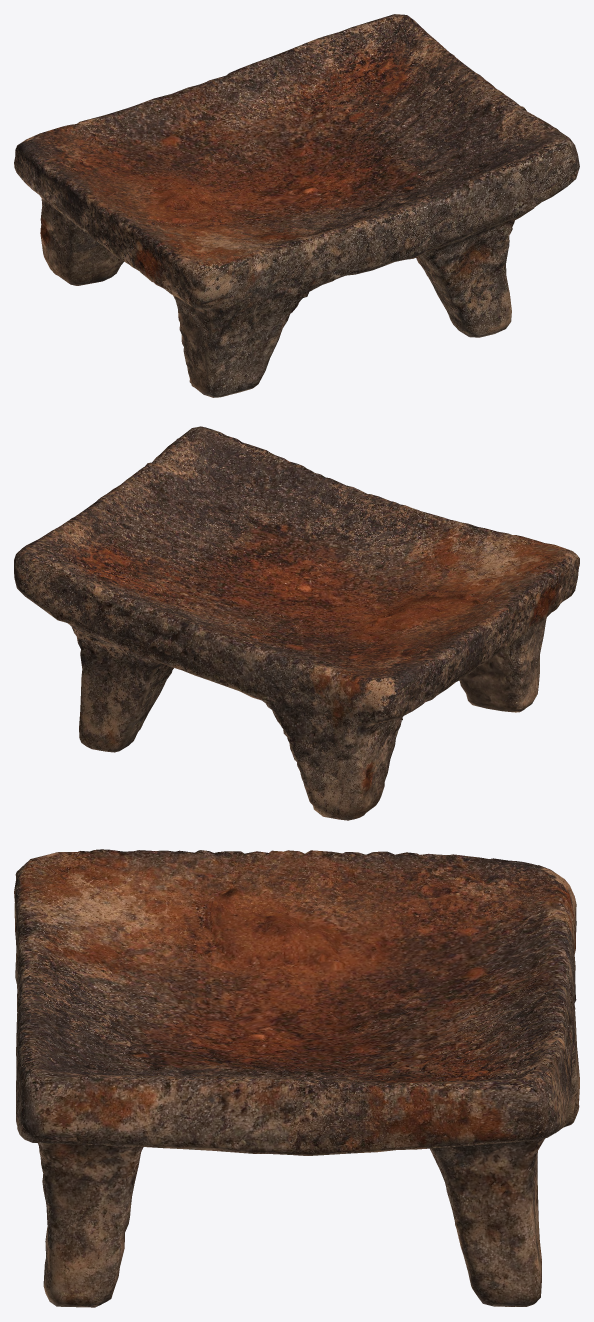
File: rustic-stone-seat.glb
The picture shows the model from 3 angles, top to bottom: view 1: azimuth 30°, elevation 25°; view 2: azimuth 150°, elevation 25°; view 3: azimuth 270°, elevation 25°; orthographic projection. The views are drawn at different scales.
Bounding box in the file's own units: 1.9 × 0.8306 × 1.58.
Materials: 1 (1 with a texture image).
